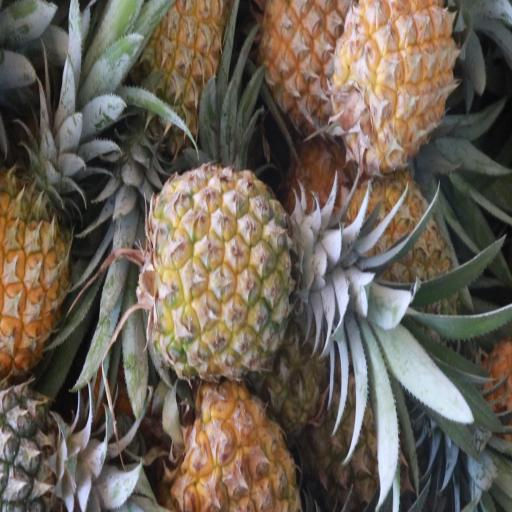------------------------------: (146, 168, 297, 375), (338, 179, 452, 349), (263, 0, 354, 139)
Pineapple - v8 v1: (336, 0, 455, 167), (170, 387, 296, 512), (0, 174, 73, 368), (141, 0, 222, 141)
